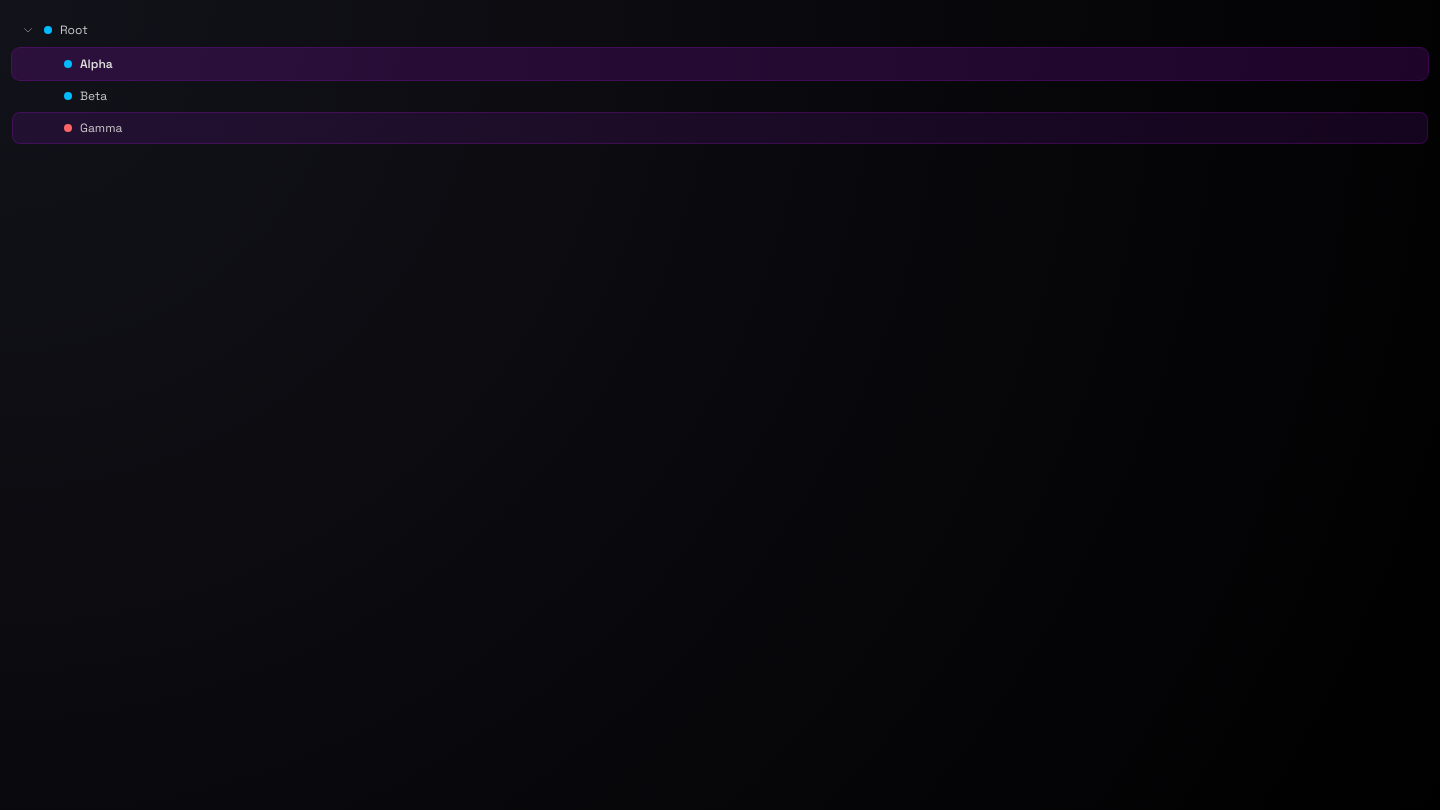
Test: GoalTree multi-selection › offers a status change only when all selected goals share the status
Right-click the button with test id "goal-node-a".
right_click(96, 64)  # box [12,48,1428,80]
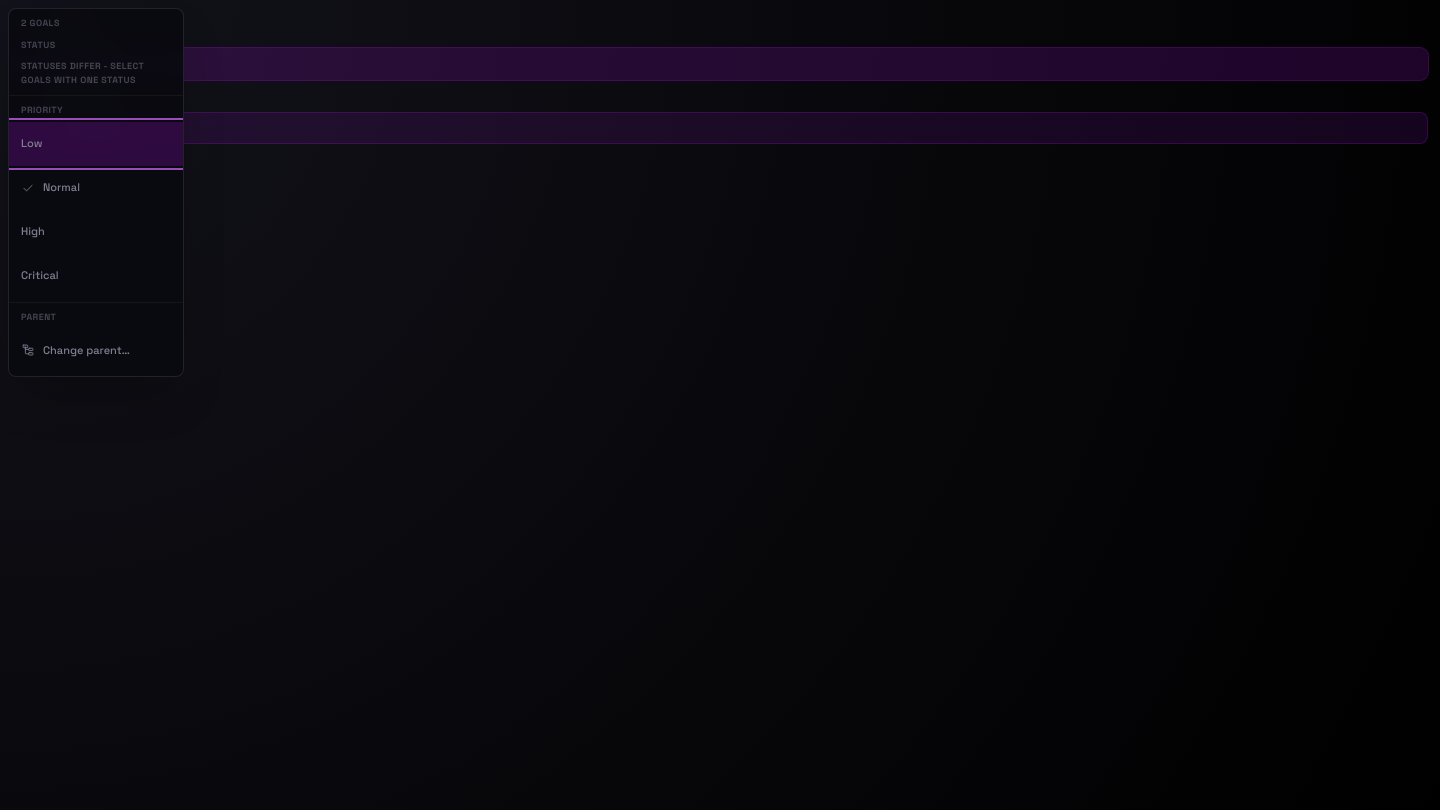
Expected: the text "Statuses differ - select goals with one status" is shown, [21,60,144,86]
Expected: the menu item "Critical" is shown, [9,254,183,298]
